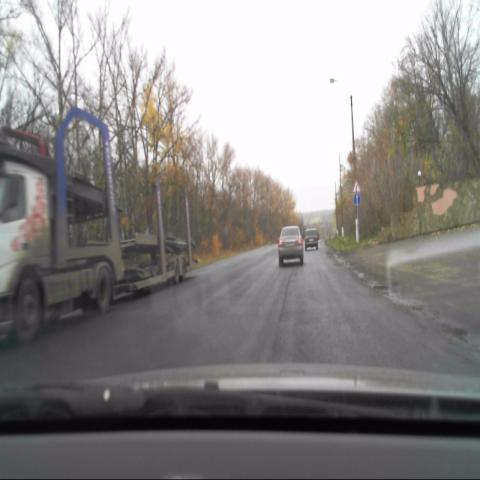1_11: (352, 180, 362, 194)
4_1_1: (353, 194, 361, 205)
